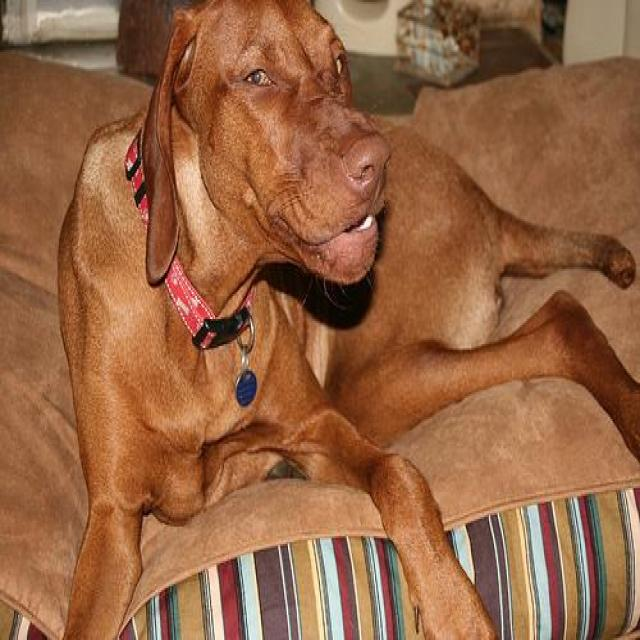vizsla: (54, 2, 638, 638)
